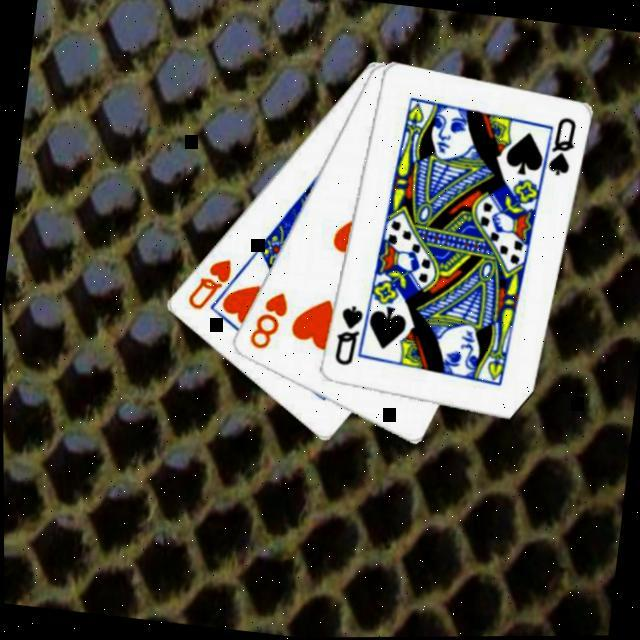8H: (246, 284, 294, 354)
QH: (184, 251, 236, 316)
QS: (330, 300, 367, 369), (544, 112, 581, 180)
